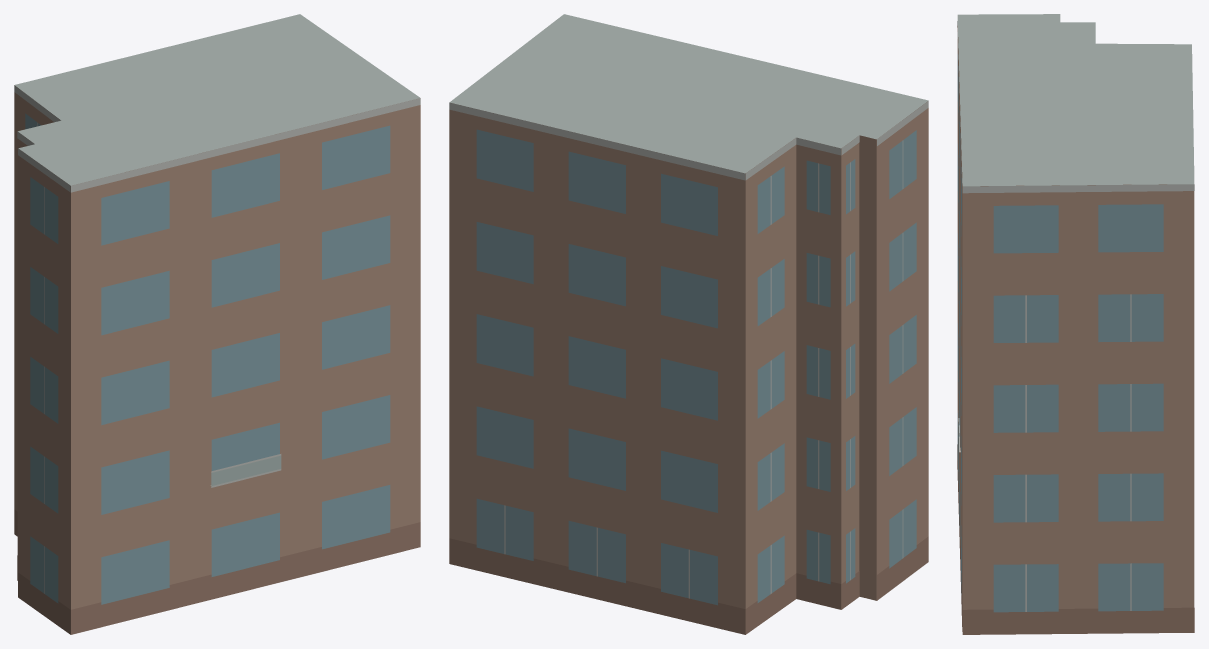
File: survey-upis-32918093.glb
3 views of the same model, side by side, from view 1: azimuth 30°, elevation 25°; view 2: azimuth 150°, elevation 25°; view 3: azimuth 270°, elevation 25° (orthographic). The views are drawn at different scales.
Parts seen in each view (by area): view 1: survey-upis-32918093.tmp; view 2: survey-upis-32918093.tmp; view 3: survey-upis-32918093.tmp.
Boxes of the visible parts, bbox=[...] form: survey-upis-32918093.tmp: bbox=[14, 14, 420, 634]; survey-upis-32918093.tmp: bbox=[449, 14, 928, 634]; survey-upis-32918093.tmp: bbox=[957, 14, 1194, 634].
Size of the model in its own units: 13.02 by 15.8 by 7.58.
